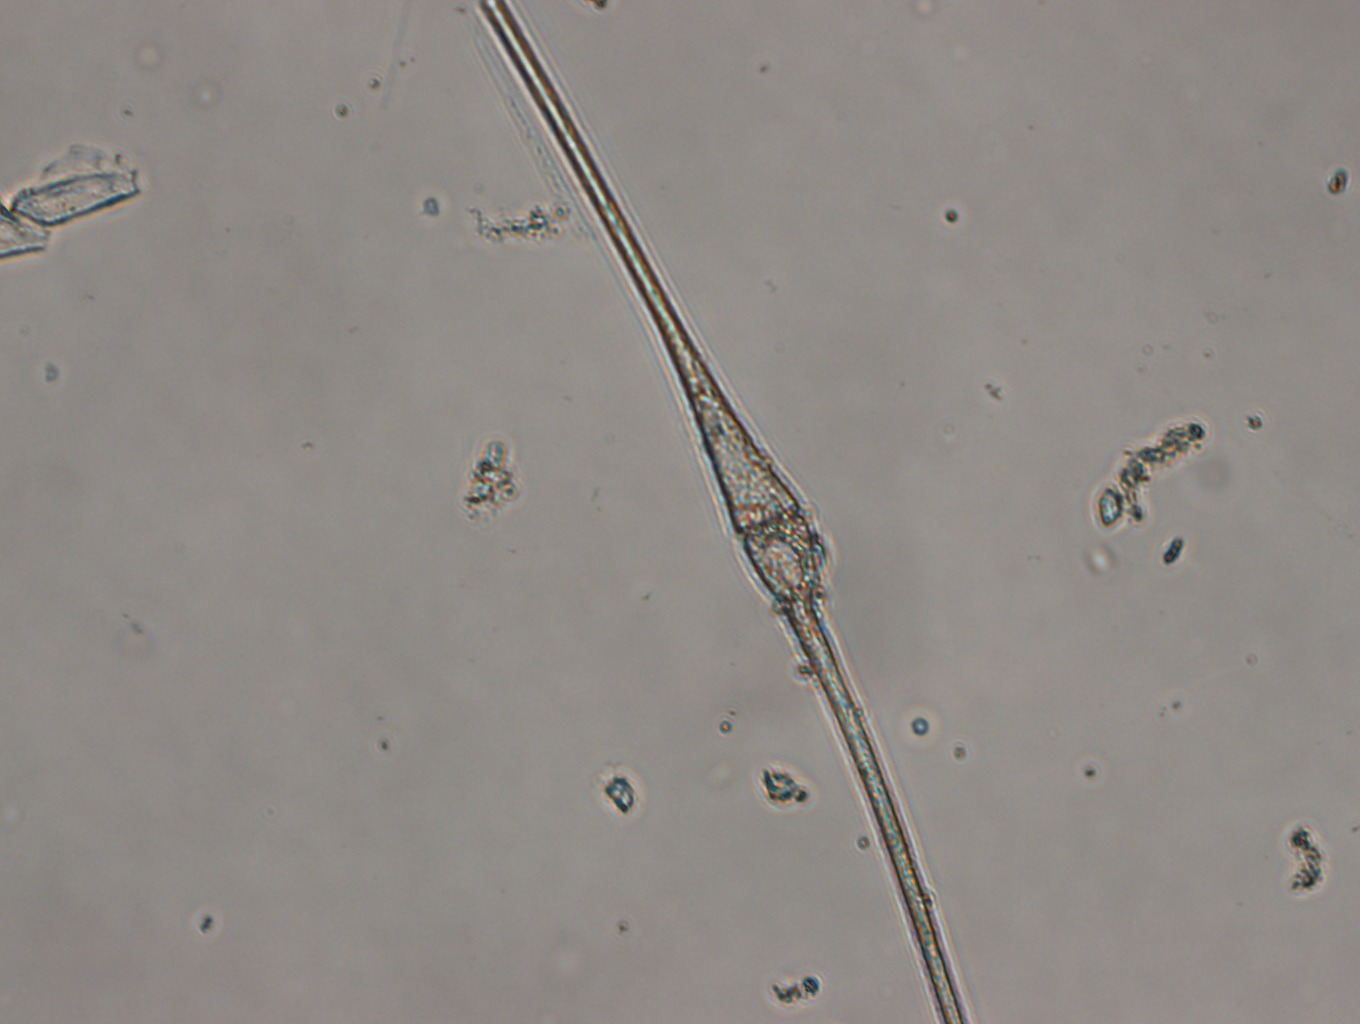ceratium fusus: (473, 3, 972, 1024)
